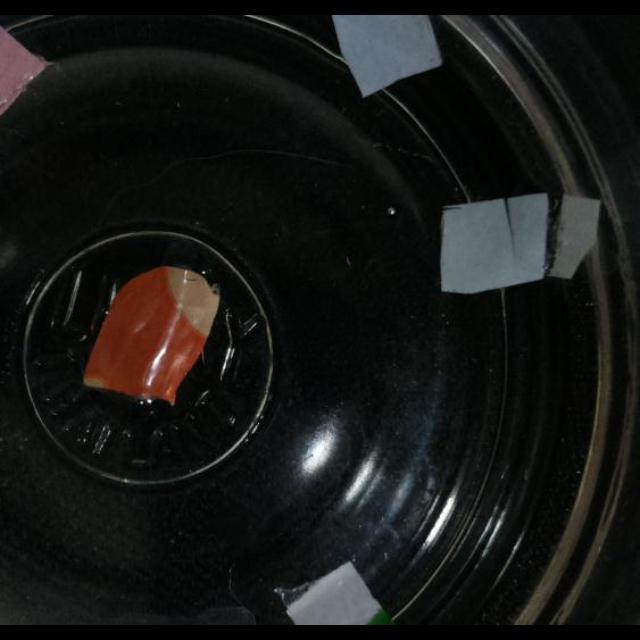Fragment: (81, 264, 217, 408), (430, 195, 610, 297), (331, 16, 444, 98), (272, 555, 394, 625), (0, 23, 54, 116)
